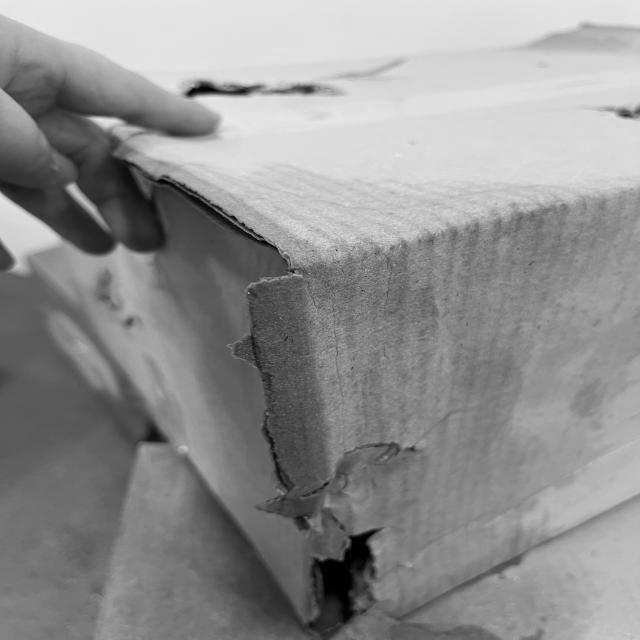hole: (304, 519, 389, 635)
wet: (175, 181, 639, 614)
